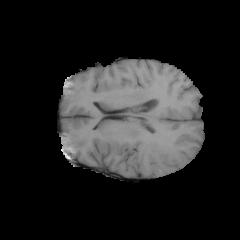glioma: (143, 130, 173, 169)
